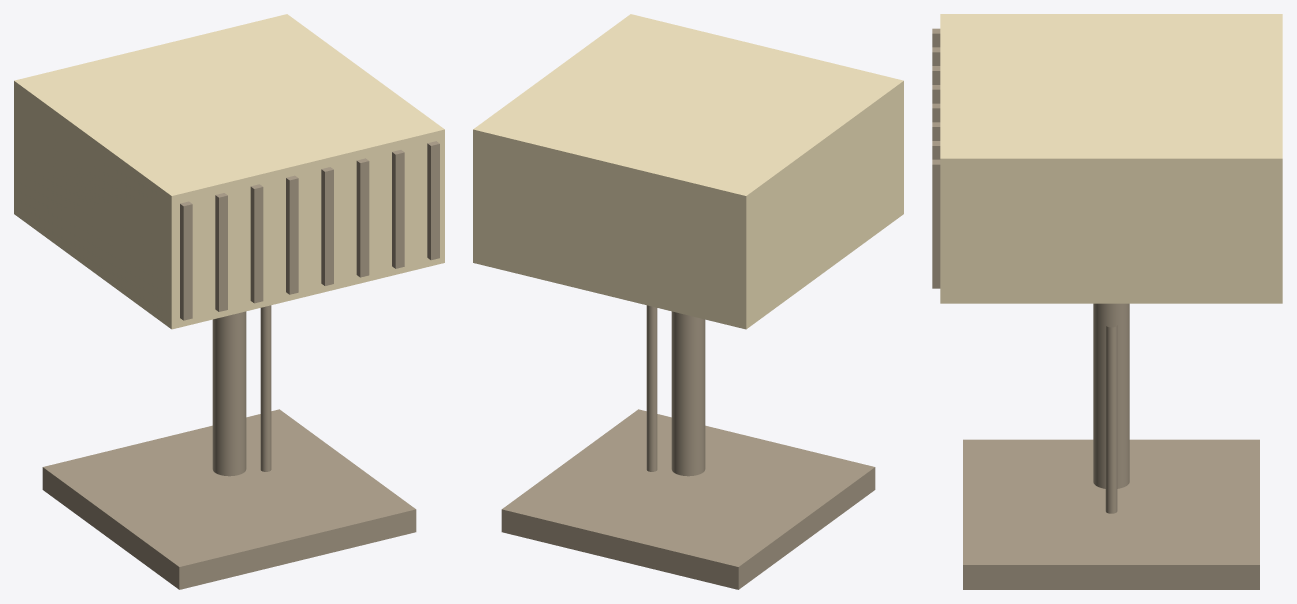
File: lamp.gltf
3 views of the same model, side by side, from view 1: azimuth 30°, elevation 25°; view 2: azimuth 150°, elevation 25°; view 3: azimuth 270°, elevation 25° (orthographic). The views are drawn at different scales.
Parts seen in each view (by area): view 1: shade, base, pole, cable, shade_rib_2, shade_rib_5, shade_rib_0, shade_rib_7, shade_rib_1, shade_rib_3, shade_rib_6, shade_rib_4; view 2: shade, base, pole, cable; view 3: shade, base, pole, cable, shade_rib_7.
Boxes of the visible parts, x1=… form: shade: x1=14, y1=14, x2=444, y2=329; base: x1=42, y1=409, x2=416, y2=589; pole: x1=212, y1=311, x2=246, y2=476; cable: x1=260, y1=305, x2=271, y2=471; shade_rib_2: x1=250, y1=184, x2=263, y2=303; shade_rib_5: x1=356, y1=158, x2=369, y2=277; shade_rib_0: x1=180, y1=201, x2=192, y2=320; shade_rib_7: x1=427, y1=141, x2=439, y2=260; shade_rib_1: x1=215, y1=193, x2=227, y2=311; shade_rib_3: x1=286, y1=175, x2=298, y2=294; shade_rib_6: x1=392, y1=150, x2=404, y2=268; shade_rib_4: x1=321, y1=167, x2=333, y2=285; shade: x1=473, y1=14, x2=903, y2=329; base: x1=501, y1=409, x2=875, y2=589; pole: x1=671, y1=311, x2=705, y2=476; cable: x1=646, y1=305, x2=657, y2=471; shade: x1=940, y1=14, x2=1282, y2=303; base: x1=963, y1=439, x2=1259, y2=589; pole: x1=1093, y1=303, x2=1129, y2=488; cable: x1=1105, y1=325, x2=1117, y2=513; shade_rib_7: x1=932, y1=159, x2=940, y2=288.
Bounding box in the file's own units: 0.75 × 1.06 × 0.7675.
